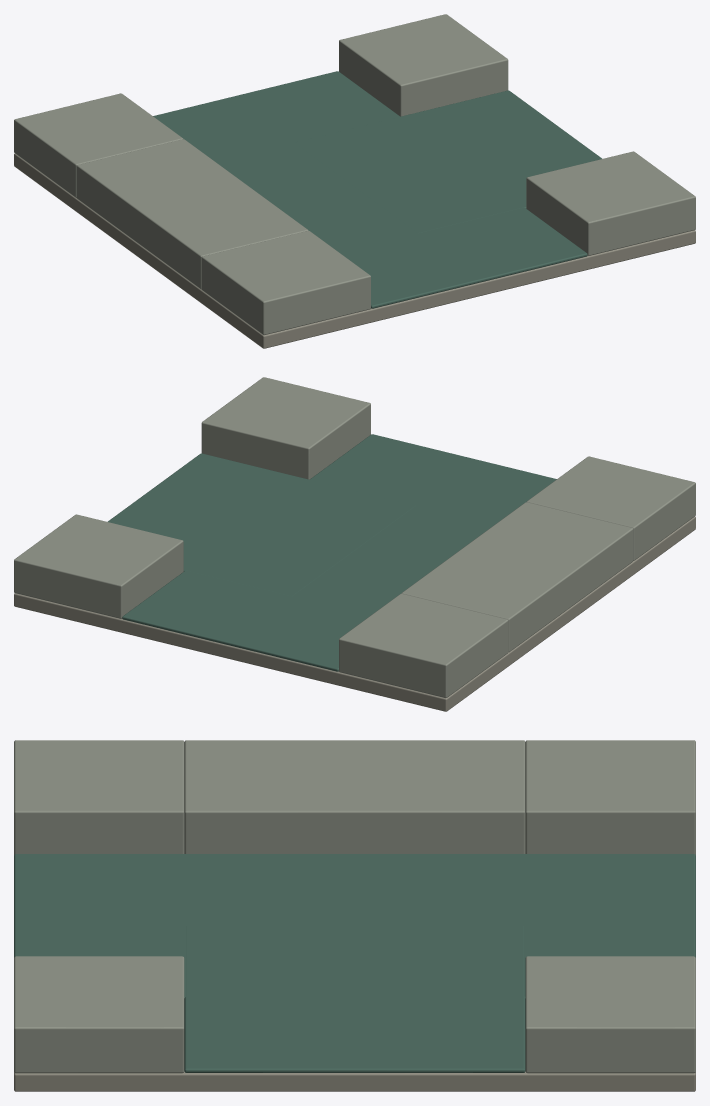
Rendered from undercity-sewers-and-thieves-den-t-junction-460f139e__25039.glb.
3 views of the same model, one above another, from view 1: azimuth 30°, elevation 25°; view 2: azimuth 150°, elevation 25°; view 3: azimuth 270°, elevation 25° (orthographic). The views are drawn at different scales.
Parts seen in each view (by area): view 1: t-junction; view 2: t-junction; view 3: t-junction.
Part boxes in pixels (x1=…): t-junction: x1=14, y1=14, x2=695, y2=348; t-junction: x1=14, y1=377, x2=695, y2=711; t-junction: x1=14, y1=740, x2=695, y2=1091.
Size of the model in its own units: 4 by 0.42 by 4.
